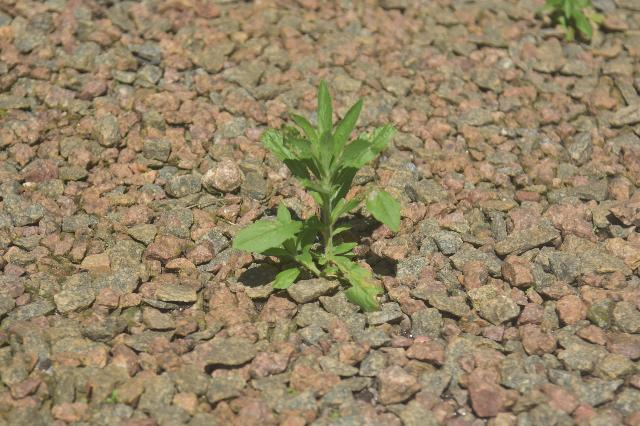MalezaMontesDelPlata: (229, 78, 410, 306), (530, 0, 605, 46)
